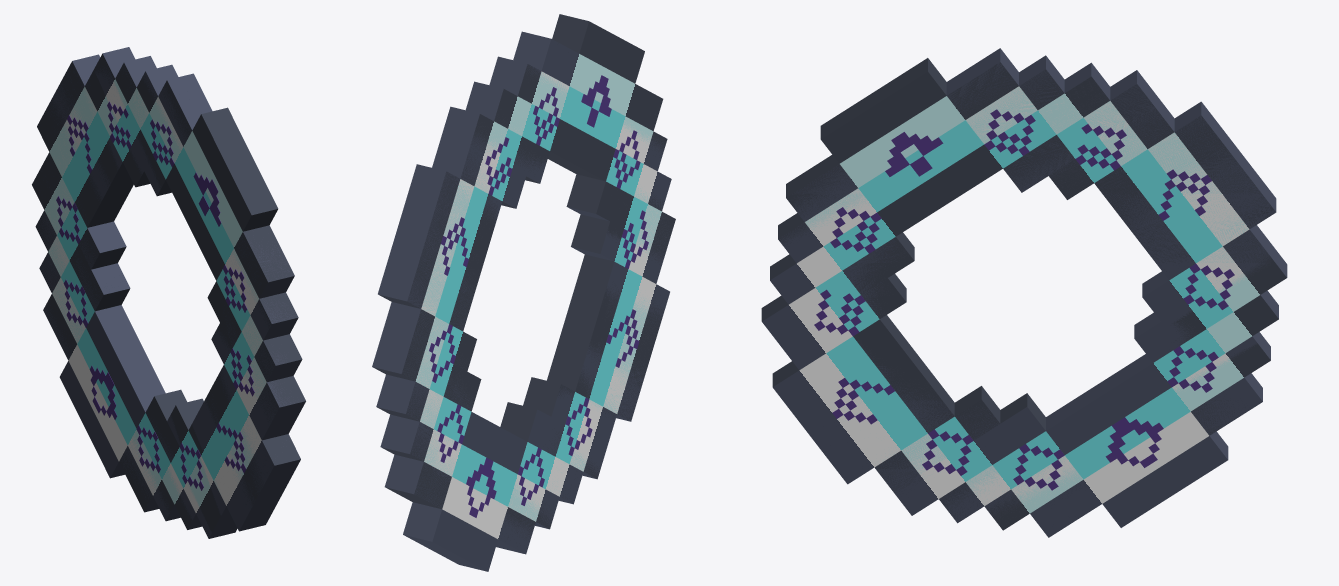
File: runic_chakram.glb
3 renders of one model, left to right at view 1: azimuth 30°, elevation 25°; view 2: azimuth 150°, elevation 25°; view 3: azimuth 270°, elevation 25°, orthographic. The views are drawn at different scales.
Parts seen in each view (by area): view 1: main__Tool_R, off__Tool_L; view 2: off__Tool_L, main__Tool_R; view 3: main__Tool_R, off__Tool_L.
Boxes of the visible parts, box(x1,y1,x2,y2) form: main__Tool_R: box(32, 53, 305, 538); off__Tool_L: box(34, 47, 305, 532); off__Tool_L: box(372, 14, 675, 567); main__Tool_R: box(372, 21, 674, 571); main__Tool_R: box(762, 63, 1286, 537); off__Tool_L: box(761, 48, 1287, 530).
Size of the model in its own units: 0.0542 by 0.9749 by 0.9749.
1 material, 1 textured.
